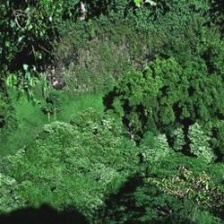neutral: (6, 4, 224, 222)
